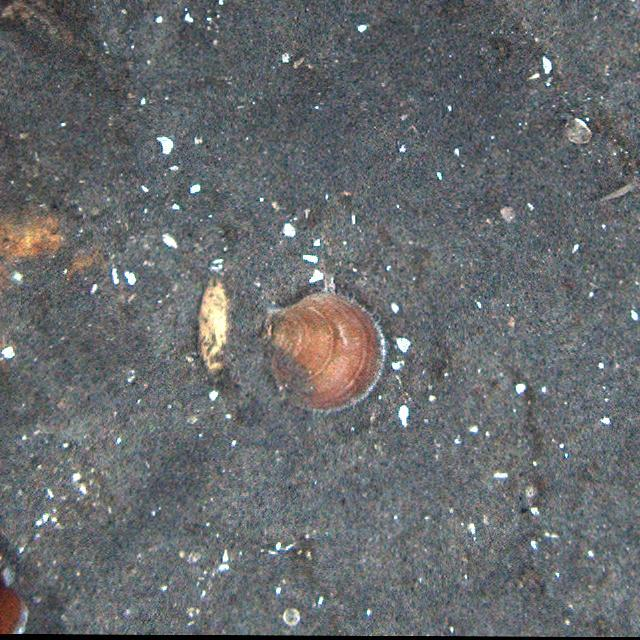scallop: (261, 290, 389, 414)
